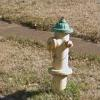Hydrant: (40, 10, 78, 100)
